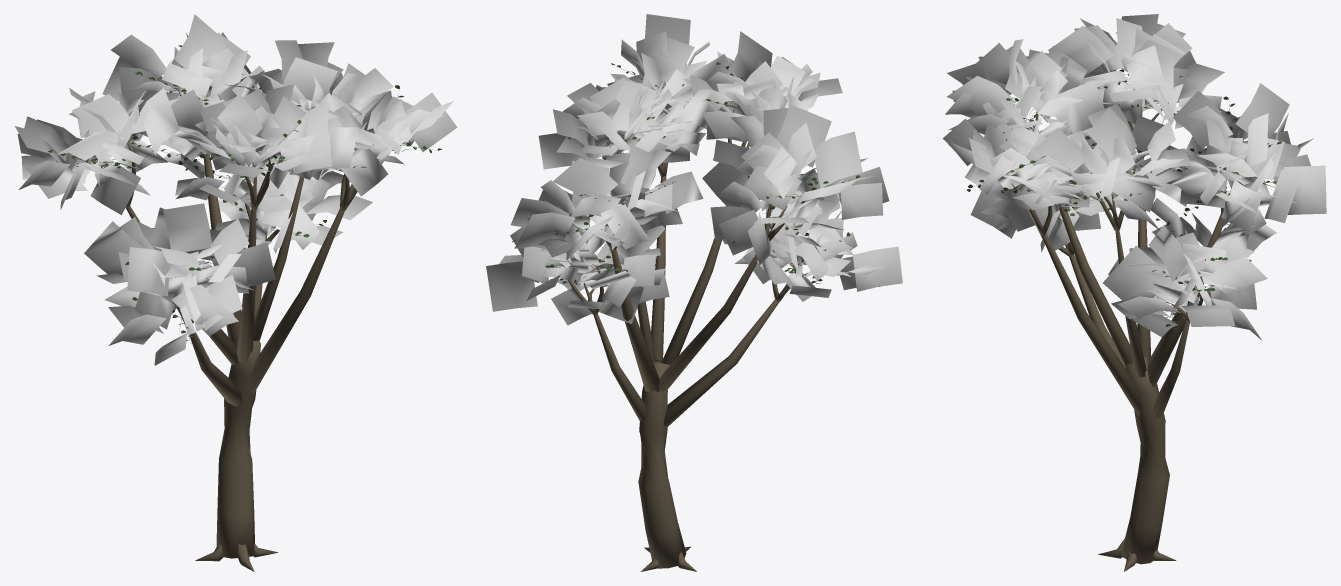
The model's file is V7_CheneVert_2_Niveau0.fbx.
3 views of the same model, side by side, from view 1: azimuth 30°, elevation 25°; view 2: azimuth 150°, elevation 25°; view 3: azimuth 270°, elevation 25° (orthographic). The views are drawn at different scales.
Visible parts, largest first — view 1: V7_CheneVert_2; view 2: V7_CheneVert_2; view 3: V7_CheneVert_2.
Boxes of the visible parts, x1,y1,x2,y2 form: V7_CheneVert_2: (14, 14, 457, 571); V7_CheneVert_2: (486, 14, 902, 571); V7_CheneVert_2: (942, 14, 1326, 571).
Size of the model in its own units: 635 by 843 by 613.
